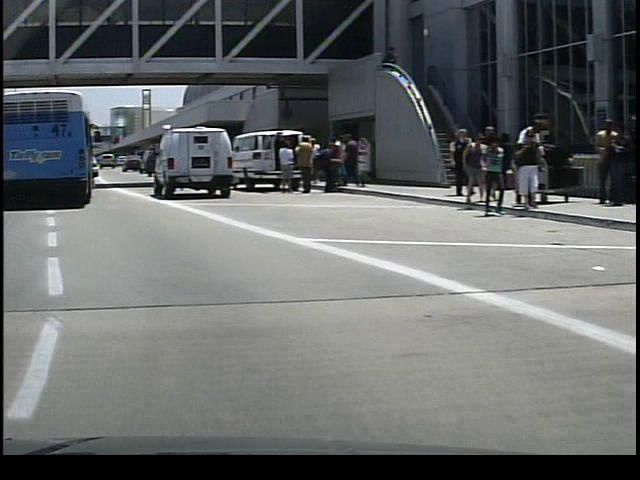person: (510, 119, 542, 213), (509, 128, 542, 214), (289, 133, 317, 196), (335, 132, 358, 187), (272, 134, 292, 193)
